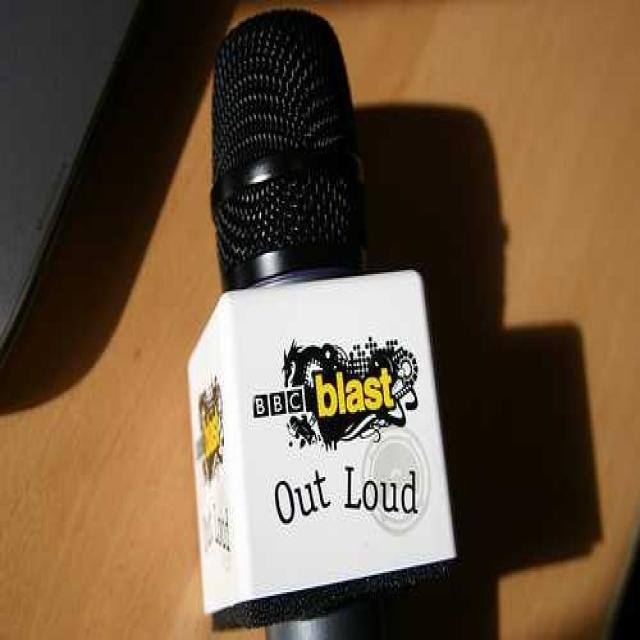microphone: (181, 9, 460, 613), (210, 9, 362, 300)
